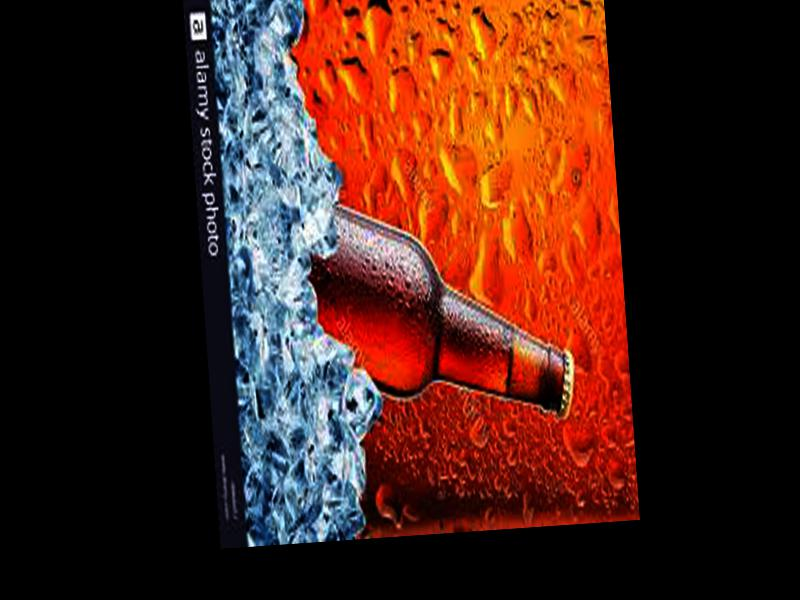Beer: (302, 192, 579, 448)
